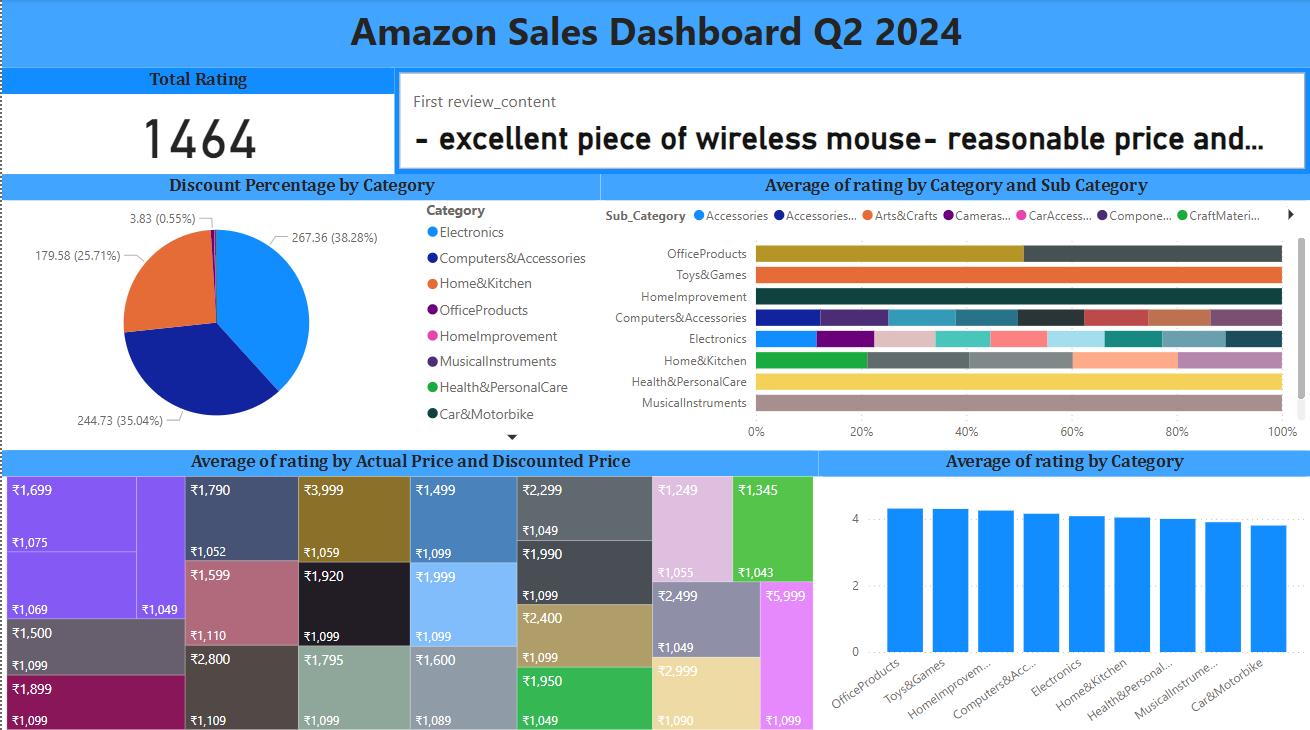

This screenshot's page, from the dashboard's own definition file:
{"tool":"powerbi","page":{"name":"Page 1","canvas":[1280,720],"ordinal":0},"visuals":[{"type":"pieChart","title":"Discount Percentage by Category","fields":{"Category":["amazon sales data.Category"],"Y":["Sum(amazon sales data.discount_percentage)"]},"box":[0,171.5,585.9,270.3],"z":0},{"type":"textbox","box":[0,0,1280.3,67.2],"z":1000},{"type":"card","title":"Total Rating","fields":{"Values":["CountNonNull(amazon sales data.rating)"]},"box":[0,67.2,384.2,104.3],"z":2000},{"type":"cardVisual","fields":{"Data":["Min(amazon sales data.review_content)"]},"box":[384.2,67.2,896.1,104.3],"z":3000},{"type":"clusteredColumnChart","fields":{"Category":["amazon sales data.Category"],"Y":["Avg(amazon sales data.rating)"]},"box":[798.6,441.9,481.6,278.6],"z":4000},{"type":"treemap","title":"Average of rating by Actual Price and Discounted Price","fields":{"Group":["amazon sales data.actual_price"],"Details":["amazon sales data.discounted_price"],"Values":["Avg(amazon sales data.rating)"]},"box":[0,441.9,798.6,278.6],"z":5000},{"type":"hundredPercentStackedBarChart","title":"Average of rating by Category and Sub Category","fields":{"Category":["amazon sales data.Category"],"Y":["Avg(amazon sales data.rating)"],"Series":["amazon sales data.Sub_Category"]},"box":[585.7,171.2,694.6,270.2],"z":6000}]}

Visuals, with their boxes in screenshot pixels (x1, y1, x2, y2), scaled from the page's 1280x720 canvas onto the 1310x730 screenshot:
"Discount Percentage by Category" pieChart: x1=0 y1=174 x2=600 y2=448
textbox: x1=0 y1=0 x2=1309 y2=68
"Total Rating" card: x1=0 y1=68 x2=393 y2=174
cardVisual - Min(amazon sales data.review_content): x1=393 y1=68 x2=1309 y2=174
clusteredColumnChart - amazon sales data.Category x Avg(amazon sales data.rating): x1=817 y1=448 x2=1309 y2=729
"Average of rating by Actual Price and Discounted Price" treemap: x1=0 y1=448 x2=817 y2=729
"Average of rating by Category and Sub Category" hundredPercentStackedBarChart: x1=599 y1=174 x2=1309 y2=448
